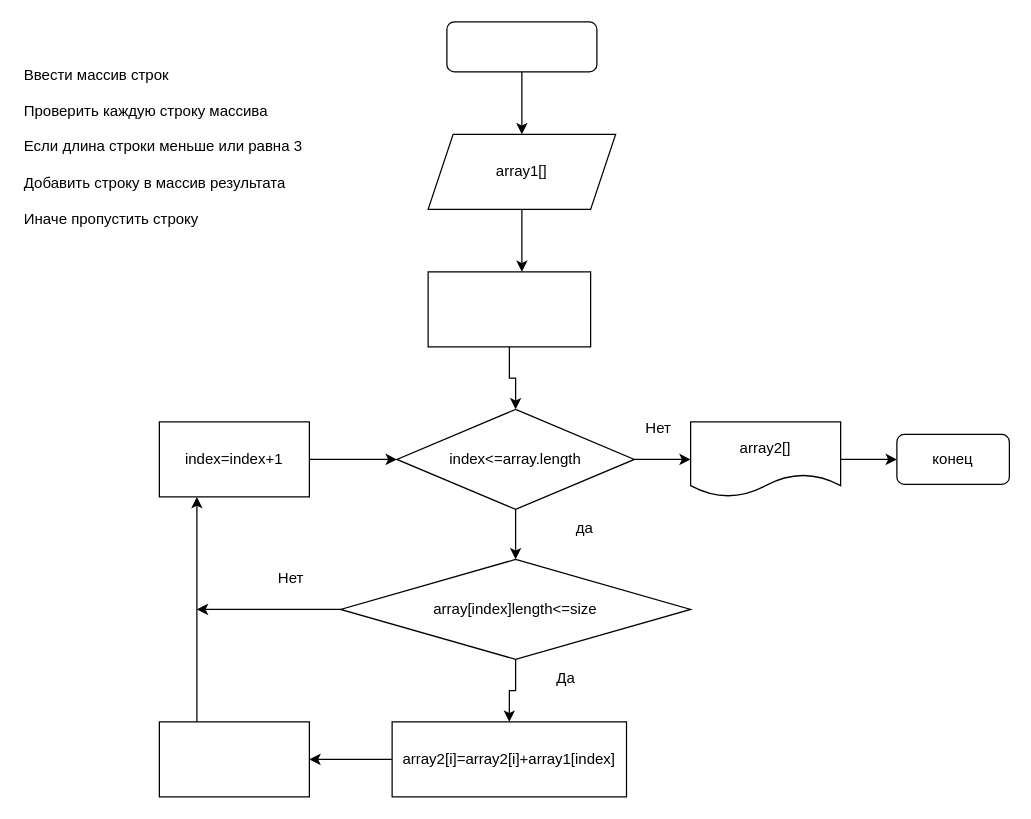
Image size: 1031x819. Some labels were removed from this diagram. The shapes that lost their labels are listed below. From the top down, each one's centre as x and y in pixels, then its label:
(521,46): начало
(509,309): array2[] index=o size=3 i=0
(233,759): i=i+1
